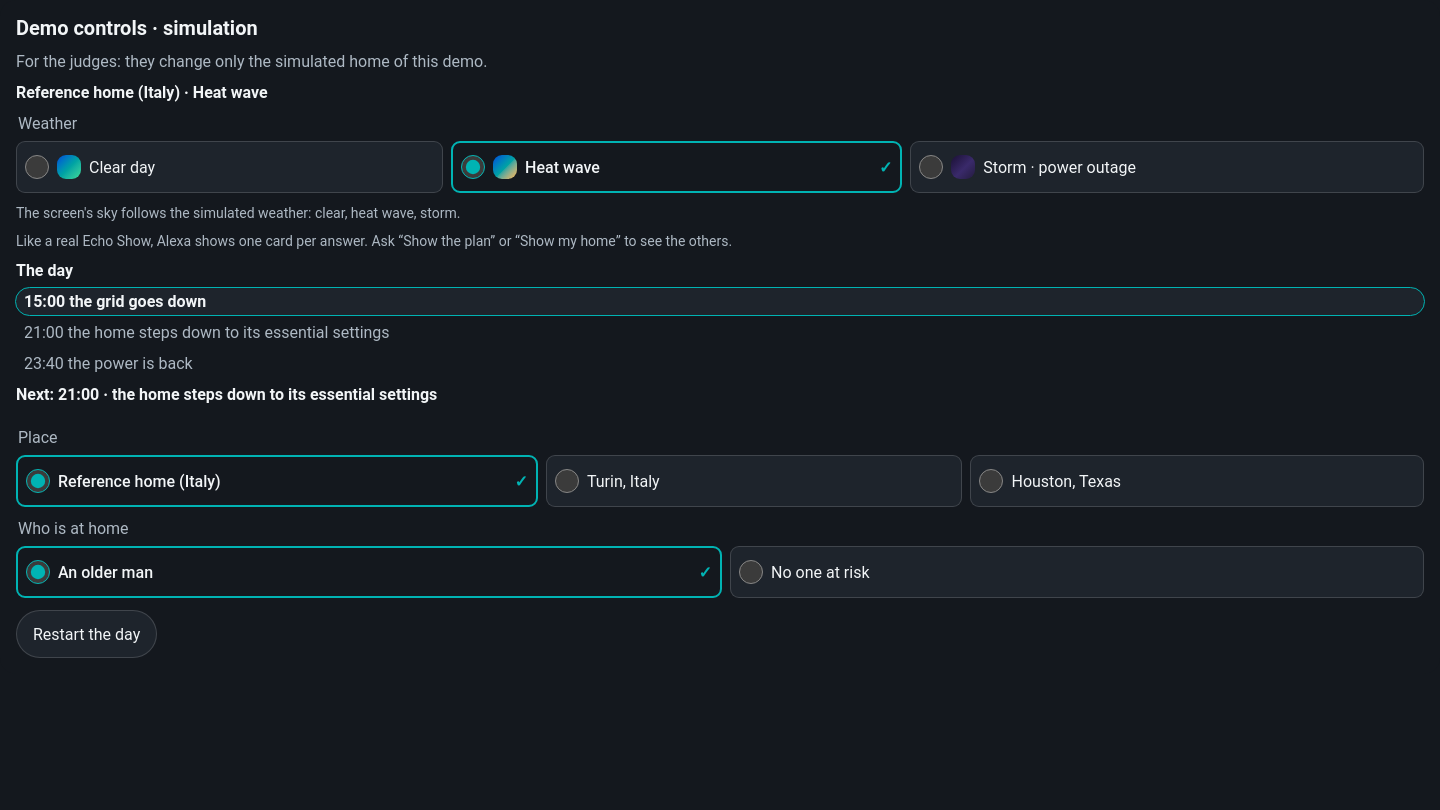
Scenario: DemoControlsPanel while a change is saved › the restart question closes when another choice is made
Click the button "Restart the day".
click(87, 634)  # box [16, 610, 157, 658]
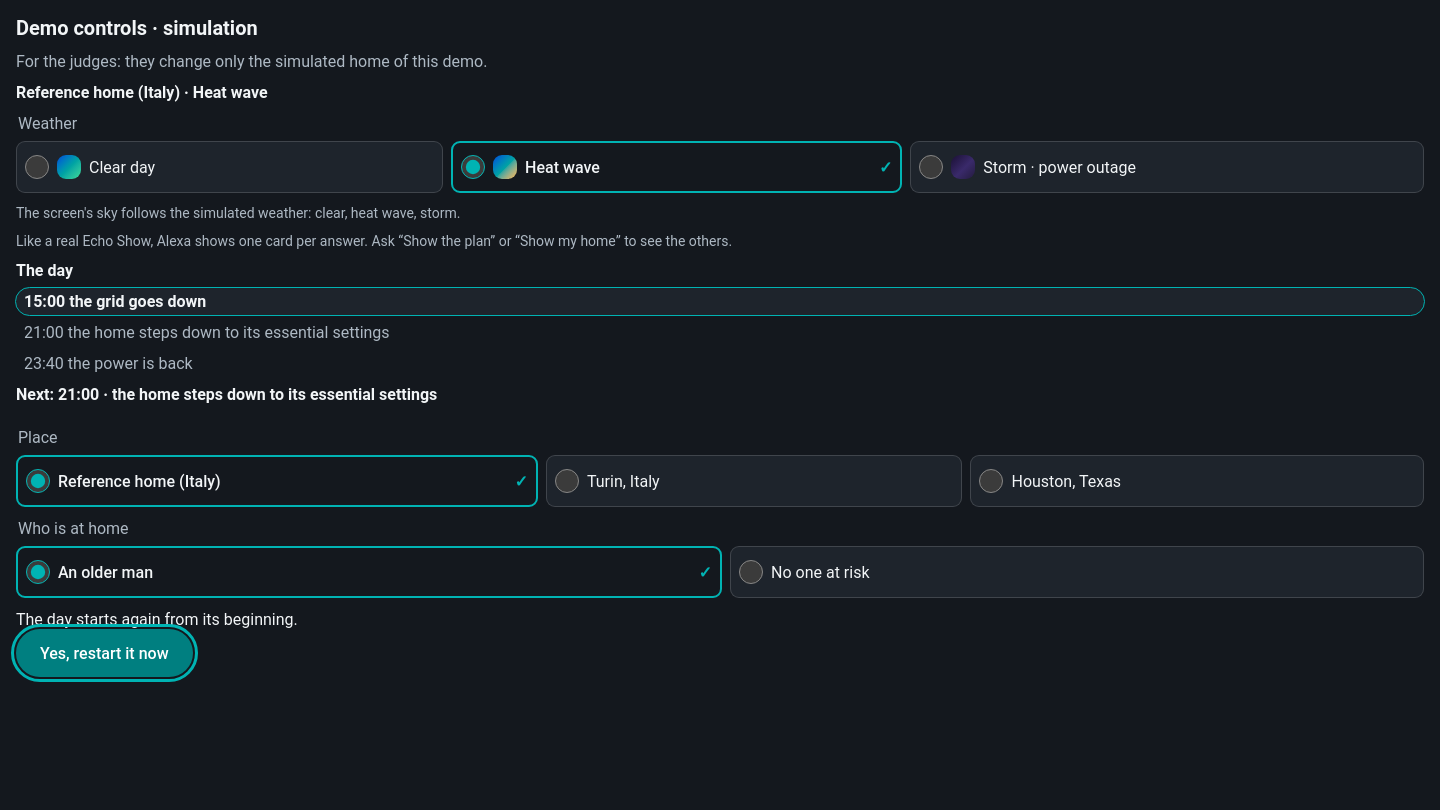
Now the button "Yes, restart it now" is shown, box [16, 629, 193, 677]
Click the radio button labelled "Turin, Italy".
click(567, 481)  # box [555, 469, 579, 493]
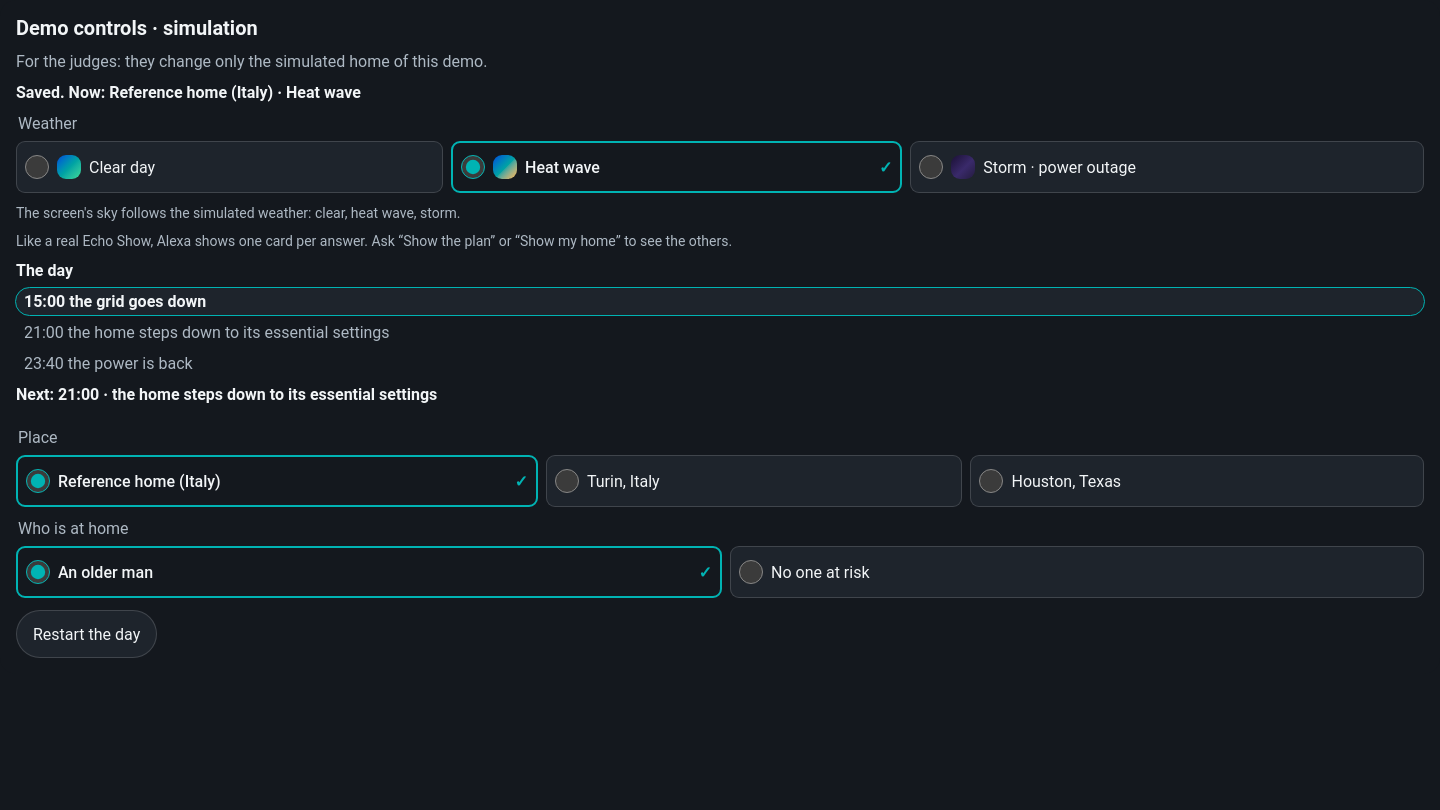
Now the button "Yes, restart it now" is gone
